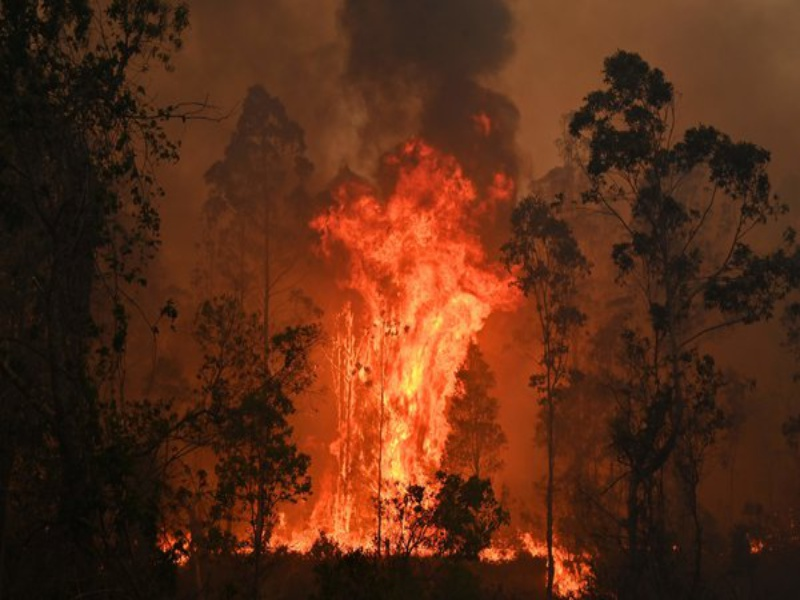fire: (299, 284, 497, 549), (518, 523, 592, 593), (156, 521, 203, 569), (260, 504, 299, 552)
